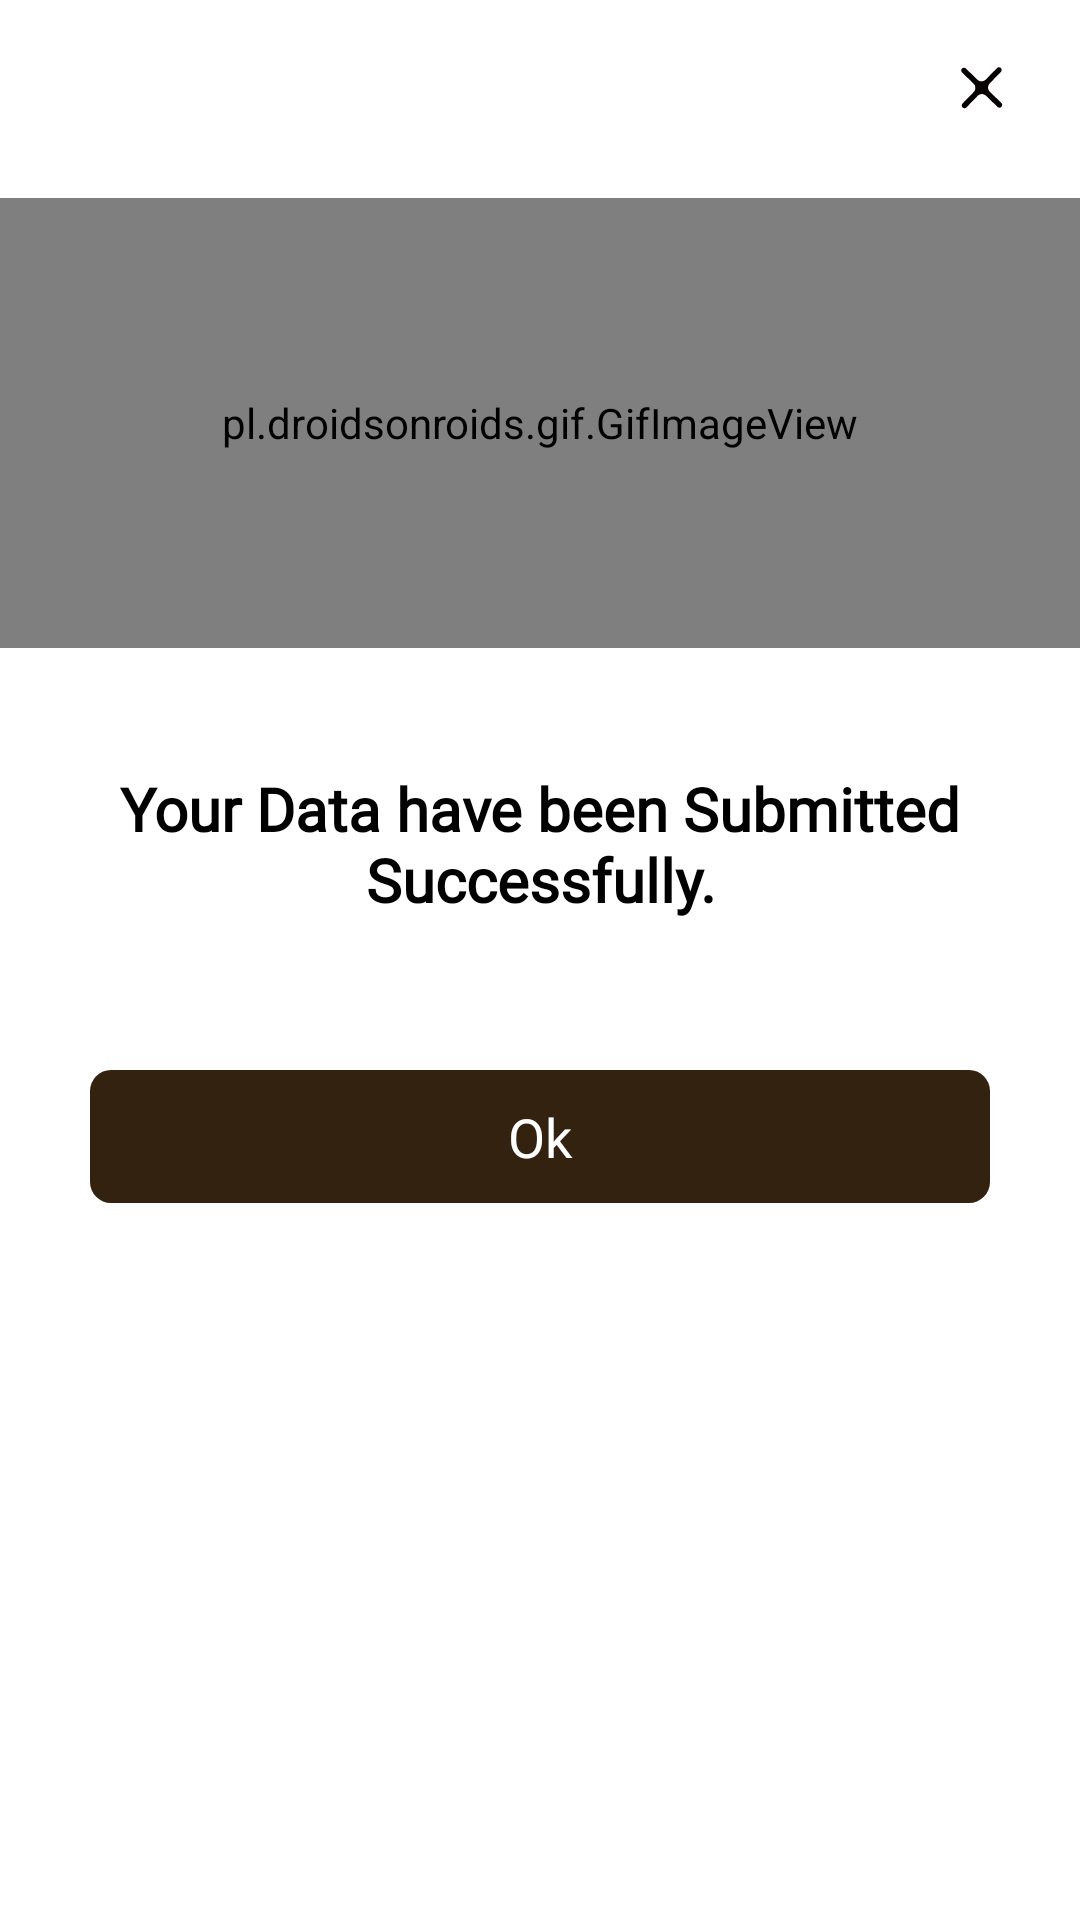

Icon bounding boxes for this 1080px x 1920px phone screenshot, format (x1, y1, x2, y2):
cancel dialog: (961, 67, 1003, 109)
